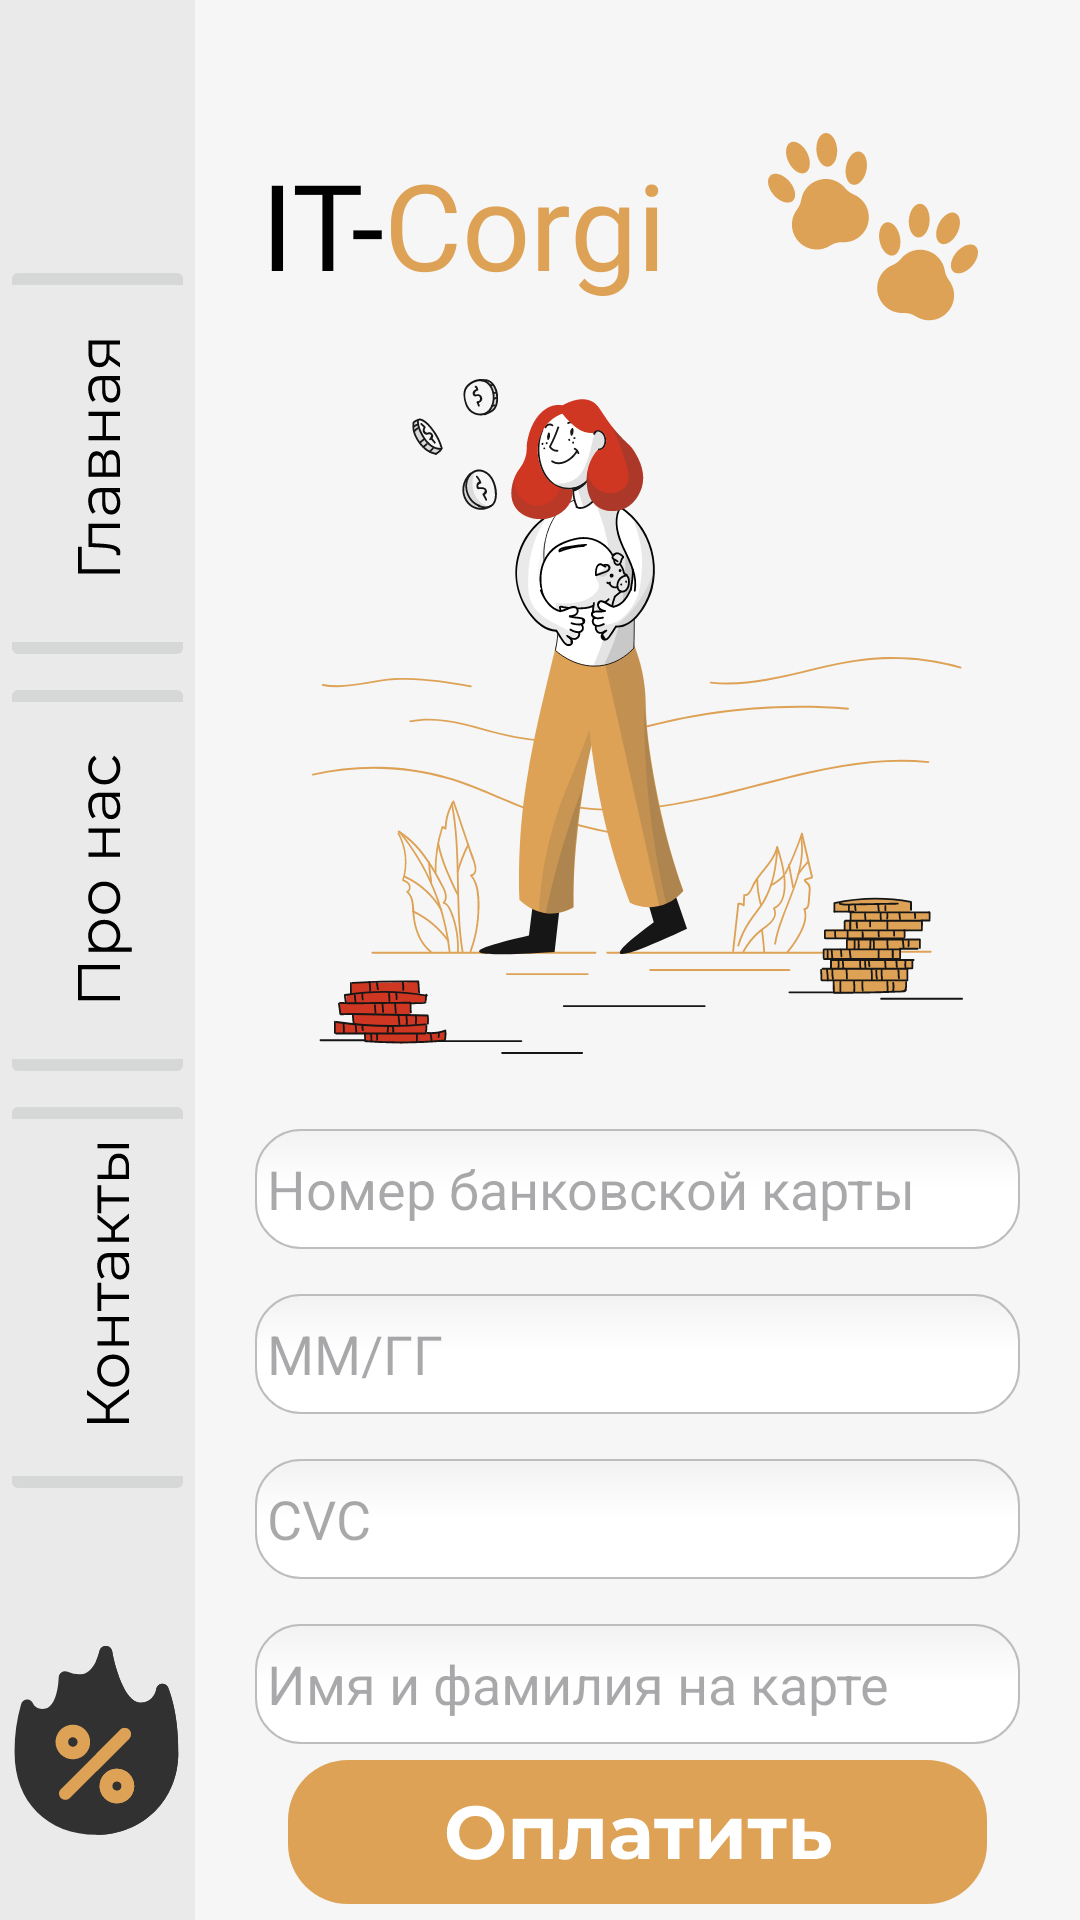

Point at icon controls on the screen. Image size 1080w x 1920h, points as (x,y).
Sales: (96,1740)
